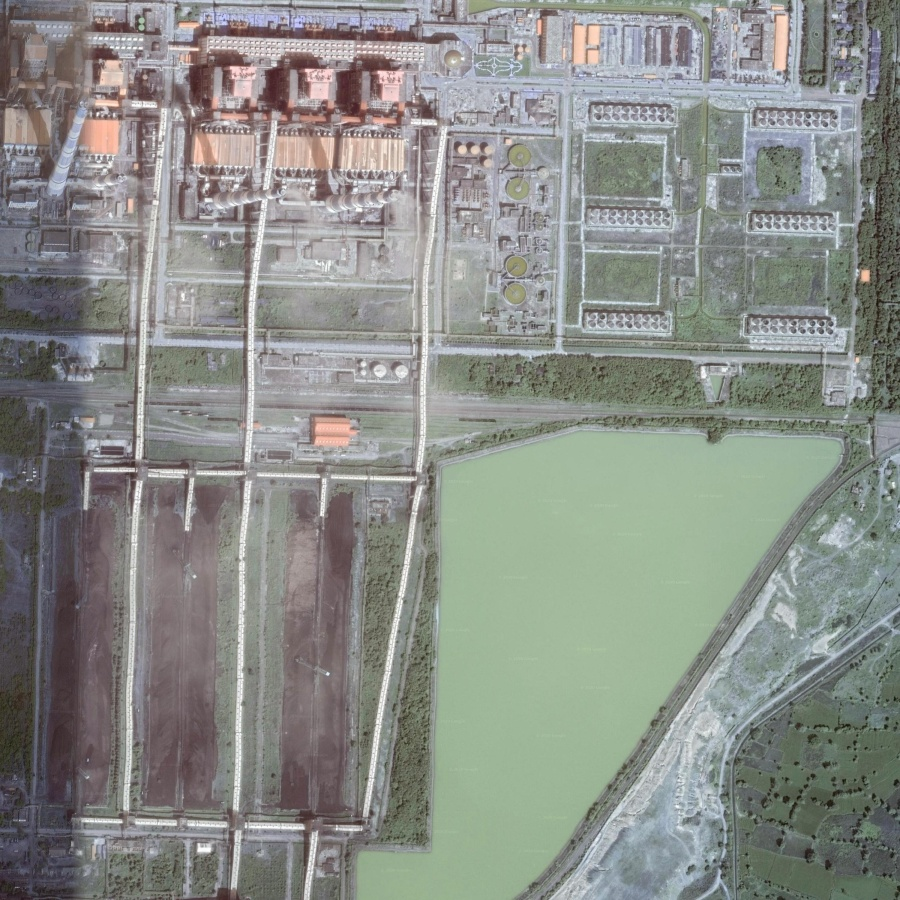PowerPlant: (37, 449, 396, 844)
